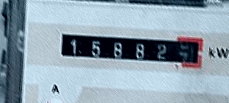1: (67, 36, 78, 54)
2: (155, 41, 167, 60)
5: (89, 38, 101, 56)
7: (177, 50, 188, 62)
8: (110, 39, 123, 57), (133, 40, 145, 59)
screen: (51, 21, 209, 75)
